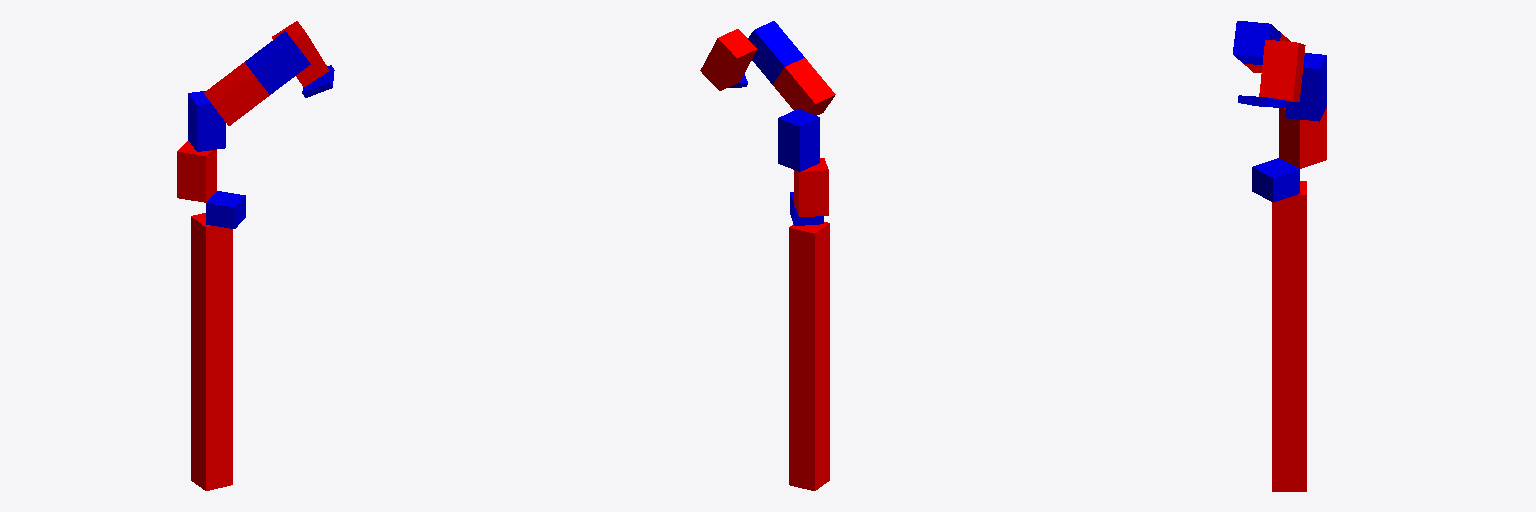
robot.urdf — armdemo:
<?xml version="1.0" ?>
<robot name="armdemo">

  <material name="red">
    <color rgba="1.0 0.0 0.0 1.0"/>
  </material>
  <material name="green">
    <color rgba="0.0 1.0 0.0 1.0"/>
  </material>
  <material name="blue">
    <color rgba="0.0 0.0 1.0 1.0"/>
  </material>

  <!-- base(world) -->
  <link name="base_link"/>
  
  <!-- base joint  -->
  <joint name="base_joint" type="fixed">
    <parent link="base_link"/>
    <child link="link1"/>
  </joint>
 
  <!-- Link1 link & joint -->
  <link name="link1">
    <collision>
      <origin rpy="0 0 0" xyz="0 0 0.425"/>
      <geometry>
        <box size="0.09 0.09 0.85"/>
      </geometry>
    </collision>
    <visual>
      <origin rpy="0 0 0" xyz="0 0 0.425"/>
      <geometry>
        <box size="0.09 0.09 0.85"/>
      </geometry>
      <material name="red"/>
    </visual>
    <inertial>
      <origin rpy="0 0 0" xyz="0 0 0"/>
      <mass value="50"/>
      <inertia ixx="0" ixy="0.1" ixz="0.0" iyy="1" iyz="0.0" izz="0.1"/>
    </inertial>
  </link>
   <joint name="joint1" type="revolute">
    <parent link="link1"/>
    <child link="link2"/>
    <origin rpy="0 0 0" xyz="0 0 0.85"/>
   
    <axis xyz="0 0 1"/>
    <dynamics damping="0.05"/>
    <limit effort="30" lower="1.6" upper="2.9" velocity="1.74"/>
  </joint>
  
  <!-- Link2 link & joint -->
  <link name="link2">
    <collision>
      <origin rpy="0 0 0" xyz="-0.045 0 0.035"/>
      <geometry>
        <box size="0.09 0.09 0.07"/>
      </geometry>
    </collision>
    <visual>
      <origin rpy="0 0 0" xyz="-0.045 0 0.035"/>
      <geometry>
        <box size="0.09 0.09 0.07"/>
      </geometry>
      <material name="blue"/>
    </visual>
    <inertial>
      <origin rpy="0 0 0" xyz="0 0 0.1"/>
      <mass value="0.1"/>
      <inertia ixx="0.01" ixy="0.0" ixz="0.0" iyy="0.01" iyz="0.0" izz="0.01"/>
    </inertial>
  </link>
  <!-- joint2 -->
  <joint name="joint2" type="revolute">
    <parent link="link2"/>
    <child link="link3"/>
    <origin rpy="0 0 0" xyz="0 0 0.07"/>
   
    <axis xyz="1 0 0"/>
    <dynamics damping="0.05"/>
    <limit effort="30" lower="-0.3" upper="1.25" velocity="1.74"/>
  </joint>
  
  <!-- Link3 link & joint -->
 
  <link name="link3">
    <collision>
      <origin rpy="0 0 0" xyz="0.045 0 0.075"/>
      <geometry>
        <box size="0.09 0.09 0.15"/>
      </geometry>
    </collision>
    <visual>
      <origin rpy="0 0 0" xyz="0.045 0 0.075"/>
      <geometry>
        <box size="0.09 0.09 0.15"/>
      </geometry>
      <material name="red"/>
    </visual>
    <inertial>
      <origin rpy="0 0 0" xyz="0.045 0 0.1"/>
      <mass value="0.1"/>
       <inertia ixx="0.01" ixy="0.0" ixz="0.0" iyy="0.01" iyz="0.0" izz="0.01"/>
    </inertial>
  </link>
  <!-- joint3 -->
  <joint name="joint3" type="revolute">
    <parent link="link3"/>
    <child link="link4"/>
    <origin rpy="0 0 0" xyz="0 0 0.15"/>

    <axis xyz="0 0 1"/>
    <dynamics damping="0.1"/>
    <limit effort="30" lower="-1.27" upper="-0.53" velocity="2.09"/>
  </joint>

  <!-- Link4 link & joint -->
 
  <link name="link4">
    <collision>
      <origin rpy="0 0 0" xyz="0.045 0 0.075"/>
      <geometry>
        <box size="0.09 0.09 0.15"/>
      </geometry>
    </collision>
    <visual>
      <origin rpy="0 0 0" xyz="0.045 0 0.075"/>
      <geometry>
        <box size="0.09 0.09 0.15"/>
      </geometry>
      <material name="blue"/>
    </visual>
    <inertial>
      <origin rpy="0 0 0" xyz="0 0 0.1"/>
      <mass value="0.1"/>
       <inertia ixx="0.01" ixy="0.0" ixz="0.0" iyy="0.01" iyz="0.0" izz="0.01"/>
    </inertial>
  </link>
  <joint name="joint4" type="revolute">
    <parent link="link4"/>
    <child link="link5"/>
    <origin rpy="0 0 0" xyz="0 0 0.15"/>
 
    <axis xyz="1 0 0"/>
    <dynamics damping="0.1"/>
    <limit effort="30" lower="0.09" upper="1.88" velocity="2.09"/>
  </joint>

  <!-- Link5 link & joint -->
  <link name="link5">
        <collision>
      <origin rpy="0 0 0" xyz="-0.045 0 0.075"/>
      <geometry>
        <box size="0.09 0.09 0.15"/>
      </geometry>
    </collision>
    <visual>
      <origin rpy="0 0 0" xyz="-0.045 0 0.075"/>
      <geometry>
        <box size="0.09 0.09 0.15"/>
      </geometry>
      <material name="red"/>
    </visual>
    <inertial>
      <origin rpy="0 0 0" xyz="0 0 0.1"/>
      <mass value="0.1"/>
       <inertia ixx="0.01" ixy="0.0" ixz="0.0" iyy="0.01" iyz="0.0" izz="0.01"/>
    </inertial>
  </link>
  <joint name="joint5" type="revolute">
    <parent link="link5"/>
    <child link="link6"/>
    <origin rpy="0 0 0" xyz="0 0 0.15"/>
 
    <axis xyz="0 0 1"/>
    <dynamics damping="0.1"/>
    <limit effort="30" lower="-0.41" upper="1.15" velocity="2.79"/>
  </joint>
  
  <!-- Link6 link & joint -->
  
  <link name="link6">
    <collision>
      <origin rpy="0 0 0" xyz="-0.045 0 0.075"/>
      <geometry>
        <box size="0.09 0.09 0.15"/>
      </geometry>
    </collision>
    <visual>
      <origin rpy="0 0 0" xyz="-0.045 0 0.075"/>
      <geometry>
        <box size="0.09 0.09 0.15"/>
      </geometry>
      <material name="blue"/>
    </visual>
    <inertial>
      <origin rpy="0 0 0" xyz="0 0 0.1"/>
      <mass value="0.1"/>
       <inertia ixx="0.01" ixy="0.0" ixz="0.0" iyy="0.01" iyz="0.0" izz="0.01"/>
    </inertial>
  </link>
  <joint name="joint6" type="revolute">
    <parent link="link6"/>
    <child link="link7"/>
    <origin rpy="0 0 0" xyz="0 0 0.15"/>
    <axis xyz="1 0 0"/>
    <dynamics damping="0.1"/>
    <limit effort="30" lower="1.40" upper="1.92" velocity="2.79"/>
  </joint>

  <!-- Link7 link & joint -->
  <link name="link7">
    <collision>
      <origin rpy="0 0 0" xyz="0.045 0 0.075"/>
      <geometry>
        <box size="0.09 0.09 0.15"/>
      </geometry>
    </collision>
    <visual>
      <origin rpy="0 0 0" xyz="0.045 0 0.075"/>
      <geometry>
        <box size="0.09 0.09 0.15"/>
      </geometry>
      <material name="red"/>
    </visual>
    <inertial>
      <origin rpy="0 0 0" xyz="0 0 0.1"/>
      <mass value="0.1"/>
       <inertia ixx="0.01" ixy="0.0" ixz="0.0" iyy="0.01" iyz="0.0" izz="0.01"/>
    </inertial>
  </link>
  <joint name="joint7" type="revolute">
    <parent link="link7"/>
    <child link="link8"/>
    <origin rpy="0 0 0" xyz="0 0 0.15"/>
    <axis xyz="0 0 1"/>
    <dynamics damping="0.1"/>
    <limit effort="30" lower="-1.56" upper="-0.77" velocity="4.18"/>
  </joint>

 <!-- Link8 (end effector)-->
  <link name="link8">
    <collision>
      <origin rpy="0 0 0" xyz="0 0 0.01"/>
      <geometry>
        <box size="0.09 0.09 0.02"/>
      </geometry>
    </collision>
    <visual>
      <origin rpy="0 0 0" xyz="0 0 0.01"/>
      <geometry>
        <box size="0.09 0.09 0.02"/>
      </geometry>
      <material name="blue"/>
    </visual>
    <inertial>
      <origin rpy="0 0 0" xyz="0 0 0.01"/>
      <mass value="0.1"/>
        <inertia ixx="0.01" ixy="0.0" ixz="0.0" iyy="0.01" iyz="0.0" izz="0.01"/>
    </inertial>
  </link>

  <transmission name="link1_trans">
    <type>transmission_interface/SimpleTransmission</type>
      <joint name="joint1">
      <hardwareInterface>hardware_interface/EffortJointInterface</hardwareInterface>
    </joint>
    <actuator name="link1_motor">
      <hardwareInterface>hardware_interface/EffortJointInterface</hardwareInterface>
      <mechanicalReduction>1</mechanicalReduction>
    </actuator>
  </transmission>
  <transmission name="link2_trans">
    <type>transmission_interface/SimpleTransmission</type>
      <joint name="joint2">
      <hardwareInterface>hardware_interface/EffortJointInterface</hardwareInterface>
    </joint>
    <actuator name="link2_motor">
      <hardwareInterface>hardware_interface/EffortJointInterface</hardwareInterface>
      <mechanicalReduction>1</mechanicalReduction>
    </actuator>
  </transmission>
  <transmission name="link3_trans">
    <type>transmission_interface/SimpleTransmission</type>
      <joint name="joint3">
      <hardwareInterface>hardware_interface/EffortJointInterface</hardwareInterface>
    </joint>
    <actuator name="link3_motor">
      <hardwareInterface>hardware_interface/EffortJointInterface</hardwareInterface>
      <mechanicalReduction>1</mechanicalReduction>
    </actuator>
  </transmission>
  <transmission name="link4_trans">
    <type>transmission_interface/SimpleTransmission</type>
      <joint name="joint4">
      <hardwareInterface>hardware_interface/EffortJointInterface</hardwareInterface>
    </joint>
    <actuator name="link4_motor">
      <hardwareInterface>hardware_interface/EffortJointInterface</hardwareInterface>
      <mechanicalReduction>1</mechanicalReduction>
    </actuator>
  </transmission>
  <transmission name="link5_trans">
    <type>transmission_interface/SimpleTransmission</type>
      <joint name="joint5">
      <hardwareInterface>hardware_interface/EffortJointInterface</hardwareInterface>
    </joint>
    <actuator name="link5_motor">
      <hardwareInterface>hardware_interface/EffortJointInterface</hardwareInterface>
      <mechanicalReduction>1</mechanicalReduction>
    </actuator>
  </transmission>
  <transmission name="link6_trans">
    <type>transmission_interface/SimpleTransmission</type>
      <joint name="joint6">
      <hardwareInterface>hardware_interface/EffortJointInterface</hardwareInterface>
    </joint>
    <actuator name="link6_motor">
      <hardwareInterface>hardware_interface/EffortJointInterface</hardwareInterface>
      <mechanicalReduction>1</mechanicalReduction>
    </actuator>
  </transmission>
  <transmission name="link7_trans">
    <type>transmission_interface/SimpleTransmission</type>
      <joint name="joint7">
      <hardwareInterface>hardware_interface/EffortJointInterface</hardwareInterface>
    </joint>
    <actuator name="link7_motor">
      <hardwareInterface>hardware_interface/EffortJointInterface</hardwareInterface>
      <mechanicalReduction>1</mechanicalReduction>
    </actuator>
  </transmission>
  <gazebo>
    <plugin name="gazebo_ros_control" filename="libgazebo_ros_control.so">
      <robotNamespace>/</robotNamespace>
      <robotSimType>gazebo_ros_control/DefaultRobotHWSim</robotSimType>
      <legacyModeNS>true</legacyModeNS>
    </plugin>
  </gazebo>

</robot>

--- Render facts (derived) ---
Views: 3 orthographic renders of the robot side by side, from view 1: azimuth 30°, elevation 25°; view 2: azimuth 150°, elevation 25°; view 3: azimuth 270°, elevation 25°.
Model armdemo with 9 links and 8 joints (7 revolute, 1 fixed), rooted at base_link, posed joints at zero except 5 at the middle of their limits (joint1 = 2.25, joint3 = -0.9, joint4 = 0.985, joint6 = 1.66, joint7 = -1.17).
Links seen in each view (by area): view 1: link1, link6, link5, link3, link4, link2, link7; view 2: link1, link4, link5, link7, link6, link3; view 3: link1, link7, link3, link4, link2, link6.
Link boxes in pixels (x1,y1,x2,y2): link1: (191,213,232,490); link6: (245,31,310,94); link5: (204,62,269,125); link3: (177,141,216,202); link4: (188,91,225,151); link2: (206,191,245,228); link7: (272,21,329,86); link1: (789,222,829,490); link4: (778,109,819,171); link5: (773,58,835,115); link7: (700,29,756,90); link6: (748,21,804,84); link3: (794,158,828,216); link1: (1272,181,1306,491); link7: (1259,40,1305,101); link3: (1279,108,1326,168); link4: (1286,53,1326,121); link2: (1252,158,1299,202); link6: (1233,21,1280,64).
Bounding box of the posed robot: 0.4704 × 0.2463 × 1.42 m (x, y, z).
Geometry: primitives only (box / cylinder / sphere), no mesh files.